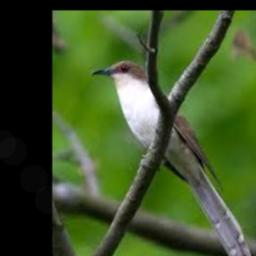Cuckoo: (91, 60, 253, 256)
